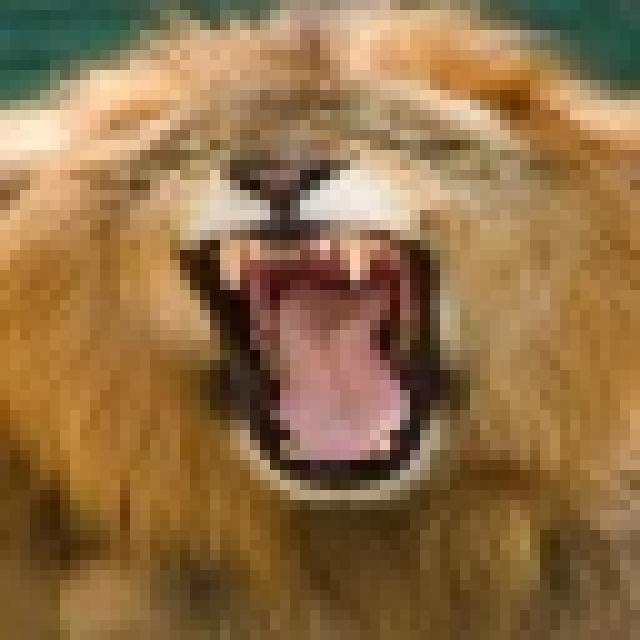Lion: (0, 9, 630, 630)
